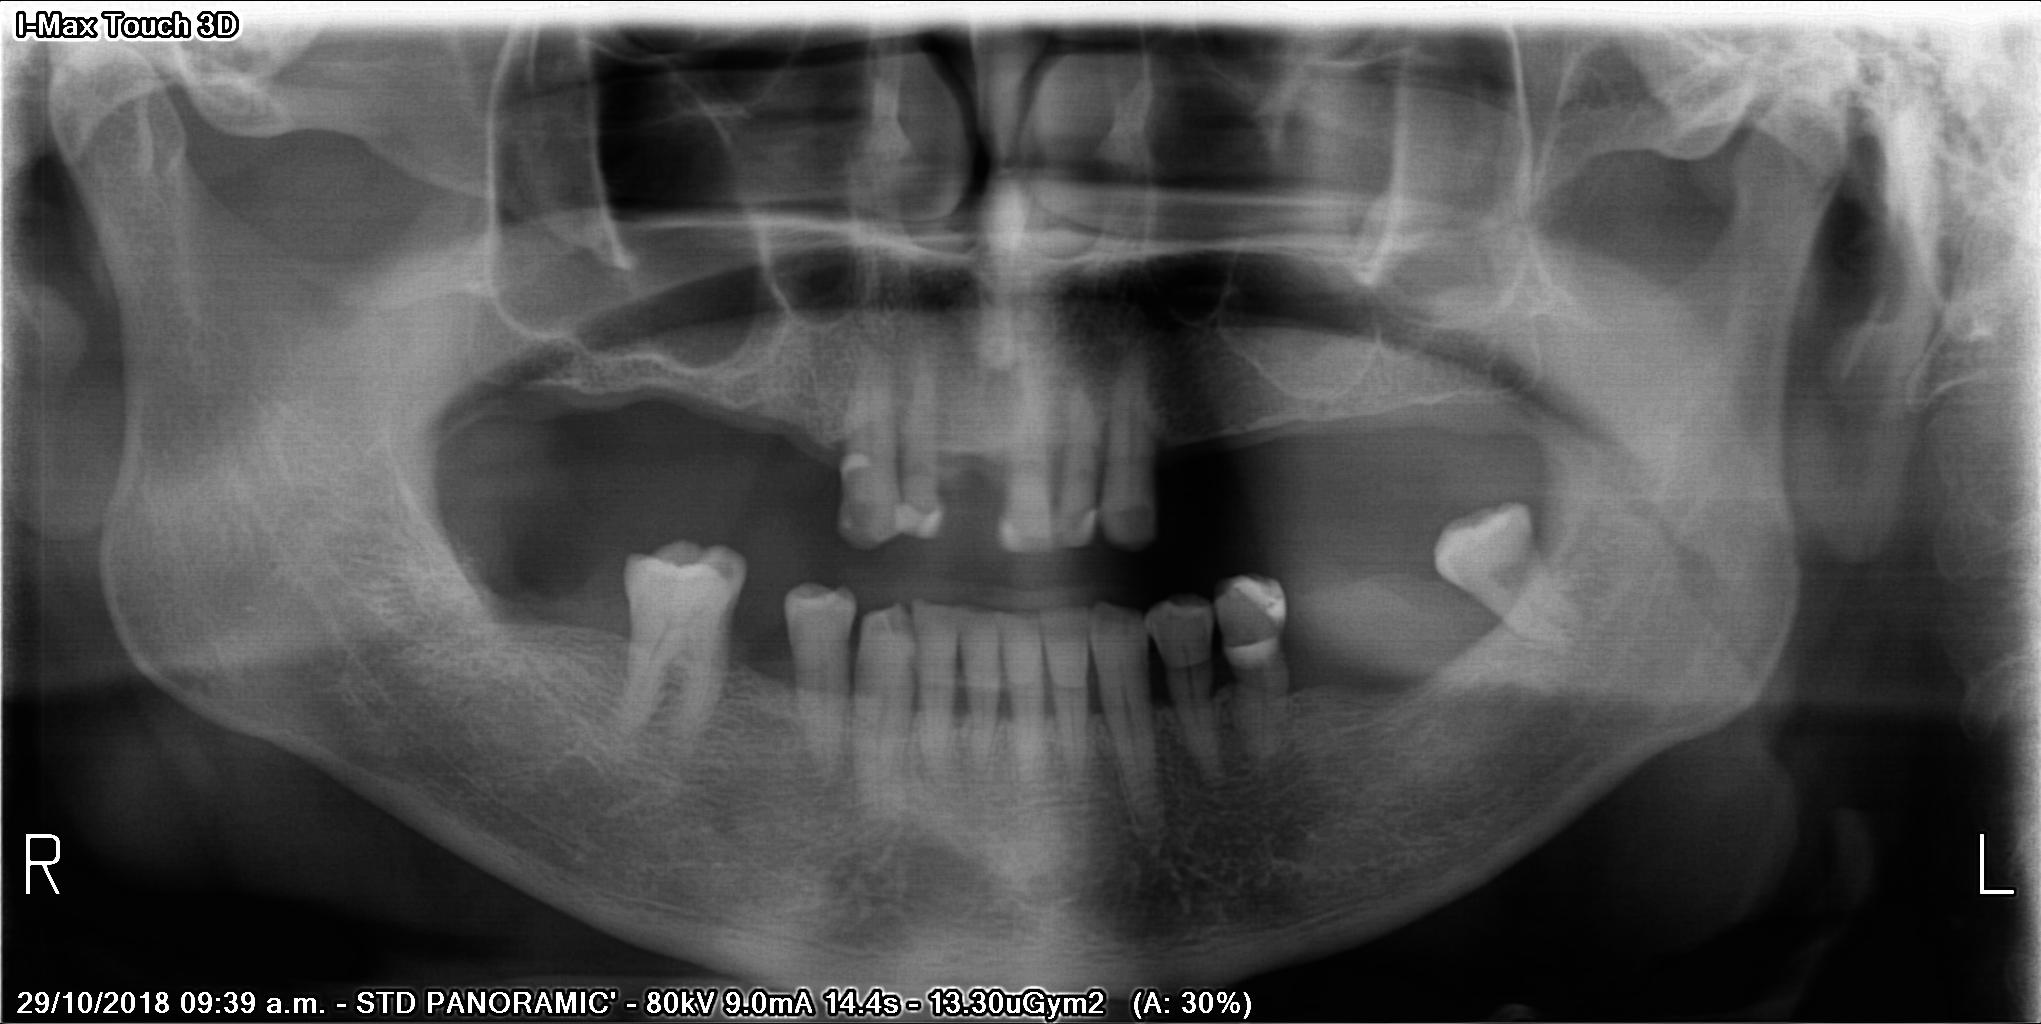Çürük: (1235, 576, 1286, 624), (837, 456, 874, 481)
